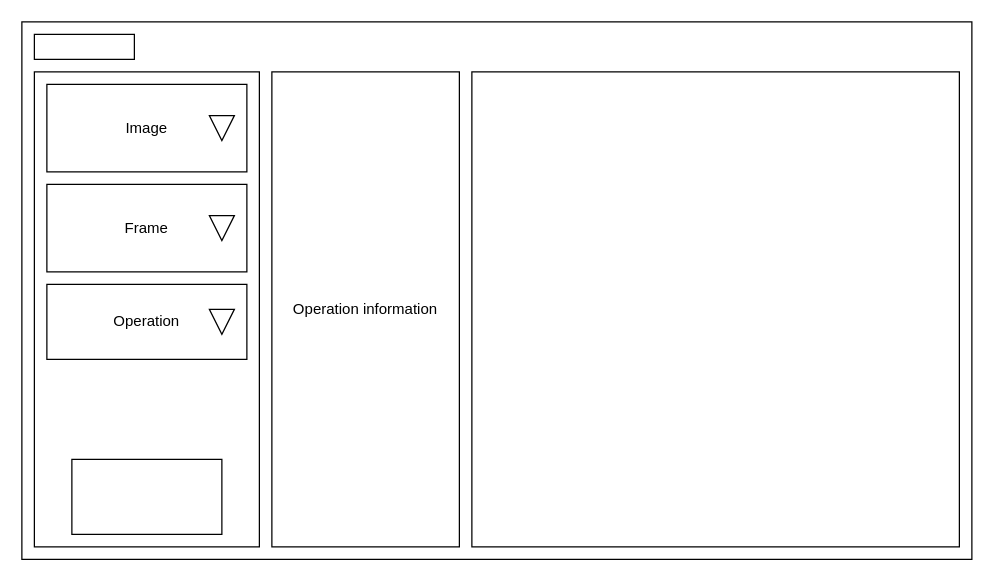
Some shapes in this 994 by 581 pixel diagram are drawn without their labels. The box of each missing label's shape, as (x1, y1, x2, y2) in pixels:
Execute Operation: (71, 458, 222, 534)
File: (33, 33, 134, 59)
